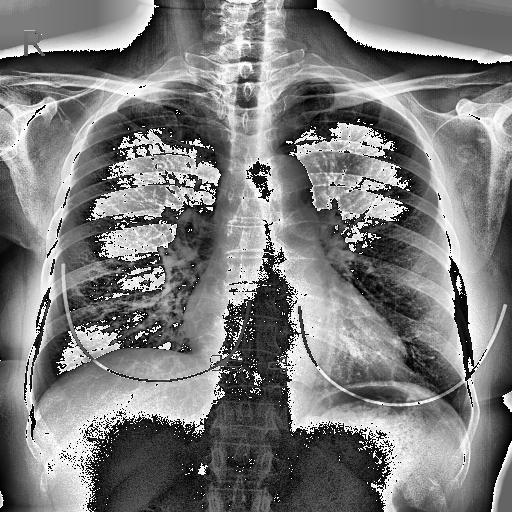11- Pleural thickening: (99, 78, 165, 117), (299, 74, 360, 84)
13- Pulmonary fibrosis: (116, 112, 158, 144), (114, 108, 152, 140), (110, 110, 148, 134)
3- Cardiomegaly: (184, 303, 404, 380)
